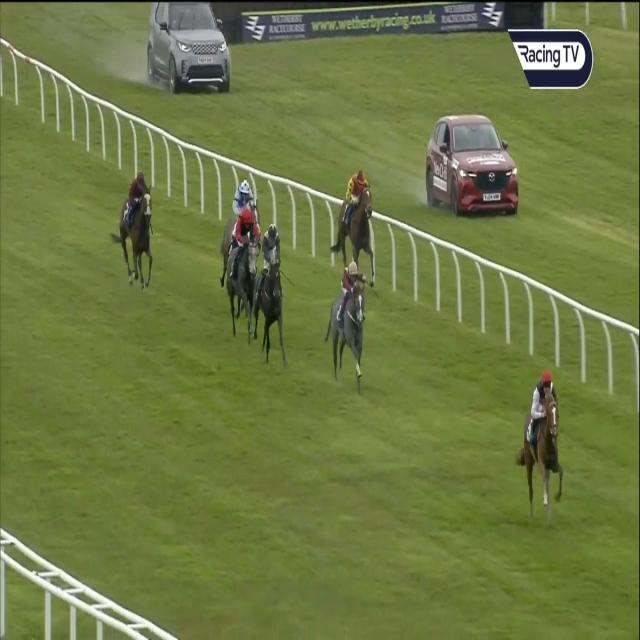horses-racing: (325, 257, 373, 392), (524, 372, 568, 511), (118, 167, 159, 292), (254, 222, 287, 376), (225, 212, 264, 334), (340, 170, 382, 276), (224, 177, 265, 236)
